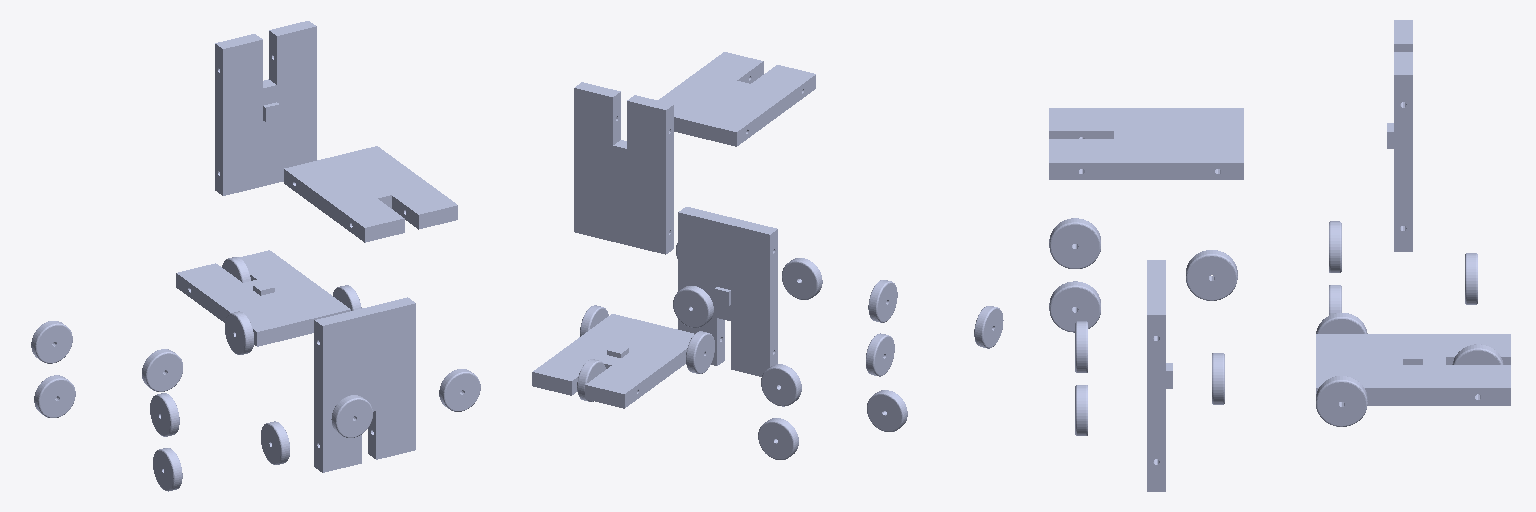
robot.urdf — assam:
<robot
  name="assam">
  <link
    name="base_link">
    <inertial>
      <origin
        xyz="0.00358608863369359 -0.305093257484609 -0.0149621208311566"
        rpy="0 0 0" />
      <mass
        value="1.68994026795429" />
      <inertia
        ixx="0"
        ixy="0"
        ixz="0"
        iyy="0"
        iyz="0"
        izz="0" />
    </inertial>
    <visual>
      <origin
        xyz="0 0 0"
        rpy="0 0 0" />
      <geometry>
        <mesh
          filename="package://assam/meshes/base_link.STL" />
      </geometry>
      <material
        name="">
        <color
          rgba="0.792156862745098 0.819607843137255 0.933333333333333 1" />
      </material>
    </visual>
    <collision>
      <origin
        xyz="0 0 0"
        rpy="0 0 0" />
      <geometry>
        <mesh
          filename="package://assam/meshes/base_link.STL" />
      </geometry>
    </collision>
  </link>
  <link
    name="w1">
    <inertial>
      <origin
        xyz="-3.94649590784724E-17 0.21 -0.015"
        rpy="0 0 0" />
      <mass
        value="0.098005596771295" />
      <inertia
        ixx="0"
        ixy="0"
        ixz="0"
        iyy="0"
        iyz="0"
        izz="0" />
    </inertial>
    <visual>
      <origin
        xyz="0 0 0"
        rpy="0 0 0" />
      <geometry>
        <mesh
          filename="package://assam/meshes/w1.STL" />
      </geometry>
      <material
        name="">
        <color
          rgba="0.792156862745098 0.819607843137255 0.933333333333333 1" />
      </material>
    </visual>
    <collision>
      <origin
        xyz="0 0 0"
        rpy="0 0 0" />
      <geometry>
        <mesh
          filename="package://assam/meshes/w1.STL" />
      </geometry>
    </collision>
  </link>
  <joint
    name="j1"
    type="continuous">
    <origin
      xyz="0.0035861 -0.41 -6.8633E-05"
      rpy="-6.123E-17 0 0" />
    <parent
      link="base_link" />
    <child
      link="w1" />
    <axis
      xyz="1 0 0" />
  </joint>
  <link
    name="w2">
    <inertial>
      <origin
        xyz="-0.115 0 -0.015"
        rpy="0 0 0" />
      <mass
        value="0.098005596771295" />
      <inertia
        ixx="0"
        ixy="0"
        ixz="0"
        iyy="0"
        iyz="0"
        izz="0" />
    </inertial>
    <visual>
      <origin
        xyz="0 0 0"
        rpy="0 0 0" />
      <geometry>
        <mesh
          filename="package://assam/meshes/w2.STL" />
      </geometry>
      <material
        name="">
        <color
          rgba="0.792156862745098 0.819607843137255 0.933333333333333 1" />
      </material>
    </visual>
    <collision>
      <origin
        xyz="0 0 0"
        rpy="0 0 0" />
      <geometry>
        <mesh
          filename="package://assam/meshes/w2.STL" />
      </geometry>
    </collision>
  </link>
  <joint
    name="j2"
    type="continuous">
    <origin
      xyz="0.0035861 -0.41 -6.8633E-05"
      rpy="-6.123E-17 0 0" />
    <parent
      link="base_link" />
    <child
      link="w2" />
    <axis
      xyz="1 0 0" />
  </joint>
  <link
    name="w3">
    <inertial>
      <origin
        xyz="0.115 0 -0.015"
        rpy="0 0 0" />
      <mass
        value="0.098005596771295" />
      <inertia
        ixx="0"
        ixy="0"
        ixz="0"
        iyy="0"
        iyz="0"
        izz="0" />
    </inertial>
    <visual>
      <origin
        xyz="0 0 0"
        rpy="0 0 0" />
      <geometry>
        <mesh
          filename="package://assam/meshes/w3.STL" />
      </geometry>
      <material
        name="">
        <color
          rgba="0.792156862745098 0.819607843137255 0.933333333333333 1" />
      </material>
    </visual>
    <collision>
      <origin
        xyz="0 0 0"
        rpy="0 0 0" />
      <geometry>
        <mesh
          filename="package://assam/meshes/w3.STL" />
      </geometry>
    </collision>
  </link>
  <joint
    name="j3"
    type="continuous">
    <origin
      xyz="0.0035861 -0.41 -6.8633E-05"
      rpy="-6.123E-17 0 0" />
    <parent
      link="base_link" />
    <child
      link="w3" />
    <axis
      xyz="1 0 0" />
  </joint>
</robot>

--- Render facts (derived) ---
3 views of the same robot in one strip: view 1: azimuth 30°, elevation 25°; view 2: azimuth 150°, elevation 25°; view 3: azimuth 270°, elevation 25° (orthographic).
Model assam with 4 links and 3 joints (3 continuous), rooted at base_link, posed every joint at zero.
Visible links, largest first — view 1: base_link, w2, w3, w1; view 2: w2, base_link, w3, w1; view 3: w3, w1, w2, base_link.
Boxes of the visible links, box(x1,y1,x2,y2) form: base_link: box(31, 297, 415, 472); w2: box(215, 21, 480, 437); w3: box(150, 146, 457, 491); w1: box(176, 250, 361, 354); w2: box(574, 82, 822, 327); base_link: box(678, 207, 907, 459); w3: box(658, 52, 1003, 376); w1: box(532, 305, 714, 408); w3: box(1049, 108, 1243, 332); w1: box(1316, 313, 1510, 426); w2: box(1075, 20, 1412, 435); base_link: box(1147, 221, 1477, 491).
Bounding box of the posed robot: 0.7201 × 0.7101 × 0.7101 m (x, y, z).
Meshes: 4 distinct files referenced, 4 mesh visuals loaded (4 binary STL).